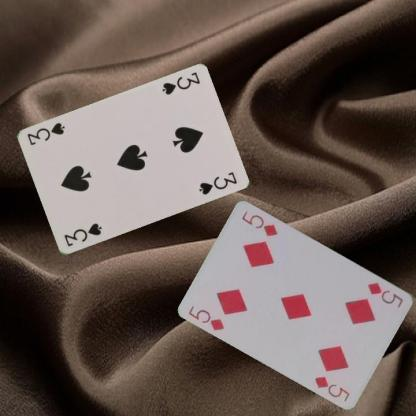3s: (61, 221, 103, 248), (159, 70, 201, 96)
5d: (365, 280, 405, 309), (186, 303, 226, 332)
